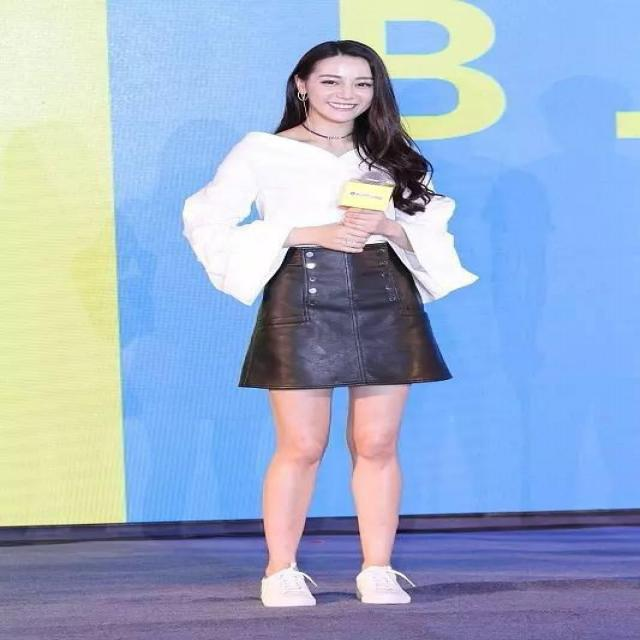Manusia: (189, 30, 479, 632)
